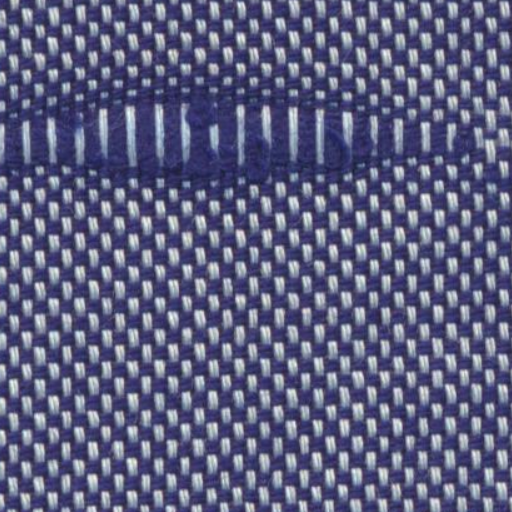DaiSha: (8, 78, 468, 194)
